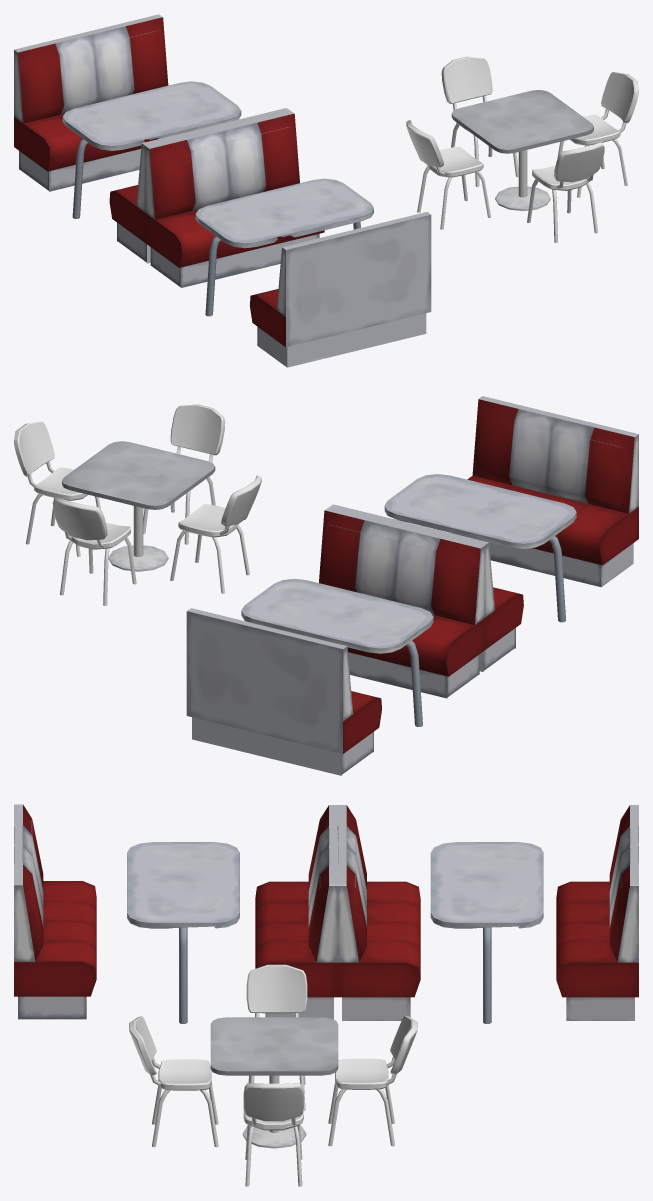
The model's file is cafe.fbx.
3 renders of one model, top to bottom at view 1: azimuth 30°, elevation 25°; view 2: azimuth 150°, elevation 25°; view 3: azimuth 270°, elevation 25°, orthographic. The views are drawn at different scales.
Parts seen in each view (by area): view 1: Sofa01.017, Sofa01.019, Sofa01.016, Table01.004, Table01.003, Plane.071, Chair01.007, Chair01.008, Chair01.006, Chair01.005; view 2: Sofa01.016, Sofa01.017, Sofa01.019, Table01.004, Table01.003, Plane.071, Chair01.005, Chair01.008, Chair01.006, Chair01.007; view 3: Sofa01.017, Sofa01.016, Sofa01.019, Table01.003, Table01.004, Plane.071, Chair01.007, Chair01.005, Chair01.006, Chair01.008.
Part boxes in pixels (x1,y1,x2,y2): Sofa01.017: (109,108,324,287); Sofa01.019: (249,212,431,367); Sofa01.016: (14,14,168,191); Table01.004: (195,178,373,316); Table01.003: (62,81,241,218); Plane.071: (451,90,593,210); Chair01.007: (527,142,604,242); Chair01.008: (406,120,491,229); Chair01.006: (557,72,638,197); Chair01.005: (441,56,518,186); Sofa01.016: (186,608,381,775); Sofa01.017: (319,504,523,698); Sofa01.019: (454,396,638,587); Table01.004: (384,474,576,622); Table01.003: (241,578,433,726); Plane.071: (62,441,215,571); Chair01.005: (52,497,136,605); Chair01.008: (170,475,261,593); Chair01.006: (14,421,100,556); Chair01.007: (143,404,225,544); Sofa01.017: (255,805,420,1020); Sofa01.016: (556,805,638,1020); Sofa01.019: (14,804,96,1019); Table01.003: (430,842,543,1023); Table01.004: (127,842,239,1023); Plane.071: (210,1017,338,1148); Chair01.007: (129,1016,218,1147); Chair01.005: (328,1015,417,1146); Chair01.006: (243,1083,303,1186); Chair01.008: (246,964,307,1110).
Size of the model in its own units: 571 by 140 by 580.
